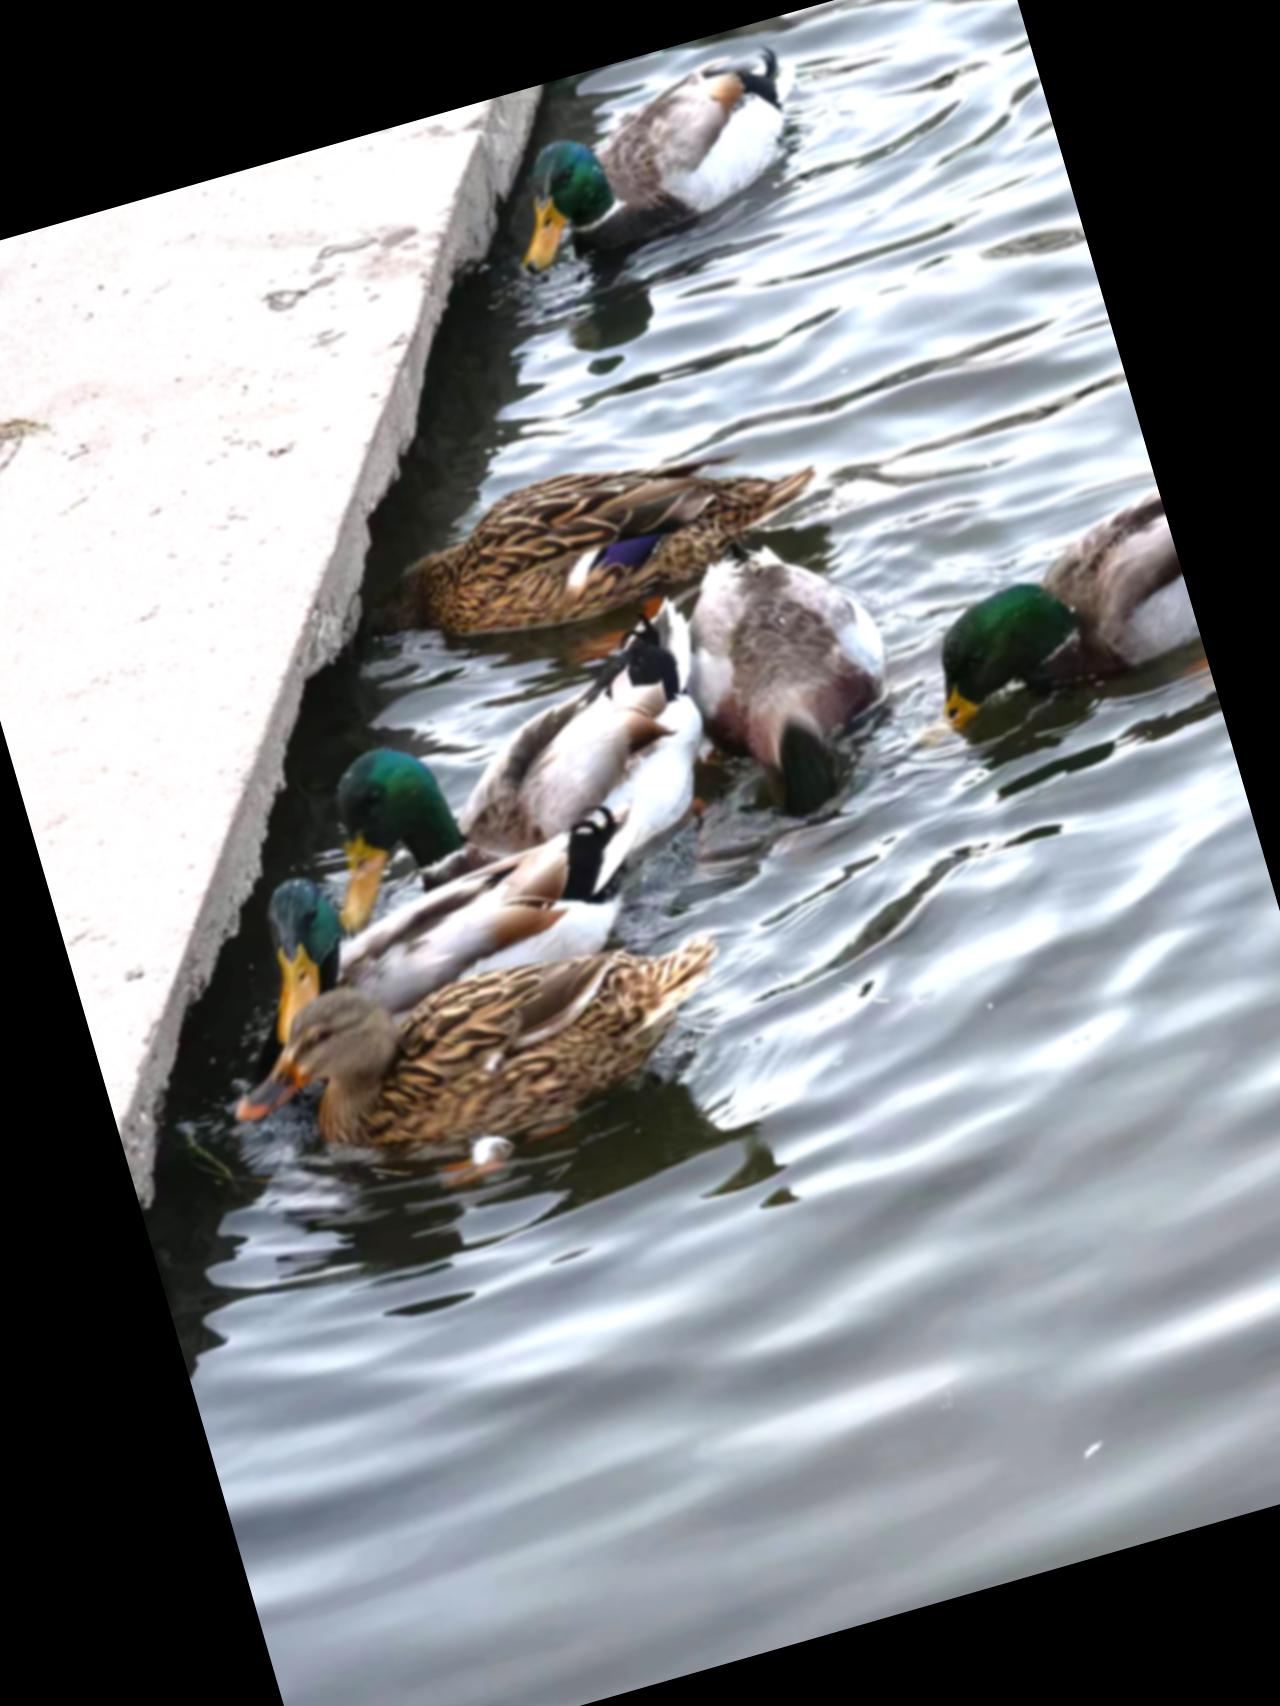duck: (222, 885, 756, 1196), (333, 376, 885, 675), (297, 617, 773, 950), (221, 764, 684, 1071), (458, 22, 869, 329), (873, 485, 1207, 742), (649, 512, 924, 819)
